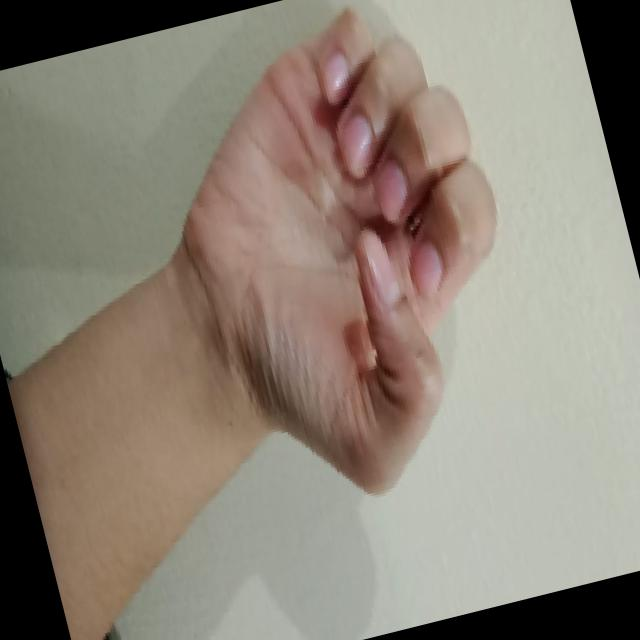Nail: (360, 230, 399, 307), (372, 162, 405, 221), (339, 117, 371, 177), (409, 242, 442, 295), (322, 54, 348, 105)
